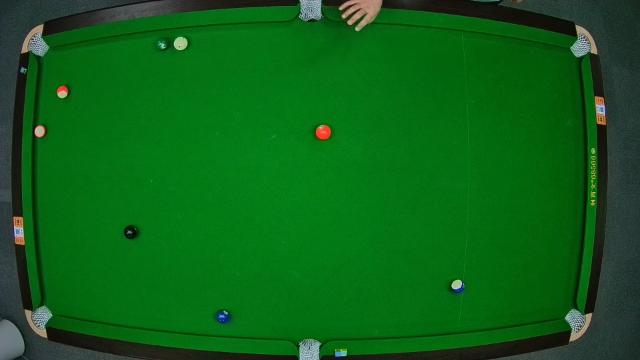bag1: (27, 37, 45, 55)
bag2: (298, 0, 322, 20)
bag3: (576, 35, 594, 56)
bag4: (32, 306, 52, 328)
bag5: (296, 342, 322, 360)
bag6: (566, 310, 584, 332)
ball0: (174, 36, 188, 52)
ball10: (450, 278, 466, 294)
ball12: (33, 124, 47, 138)
ball13: (58, 84, 70, 99)
ball2: (216, 308, 230, 324)
ball5: (316, 124, 332, 140)
ball6: (154, 36, 170, 50)
ball8: (125, 225, 138, 239)
